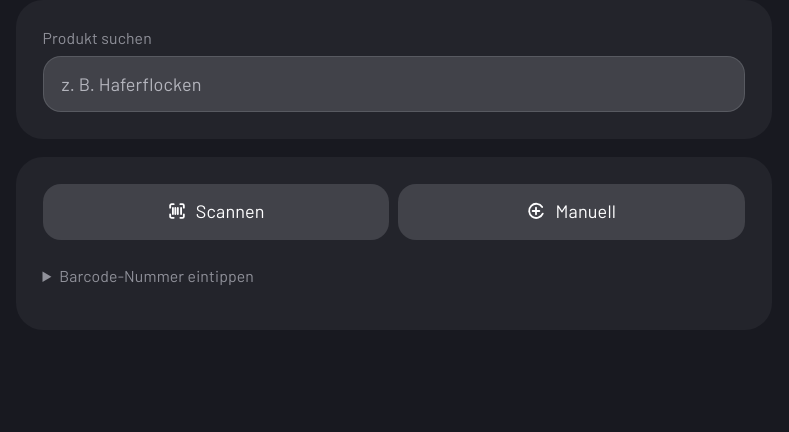
Test case: AddEntryFlow › previews the calories of the entered portion
The width and height of the screenshot is (789, 432).
Step 1. Click the button "Scannen" → click(216, 212), box [42,184,389,240]
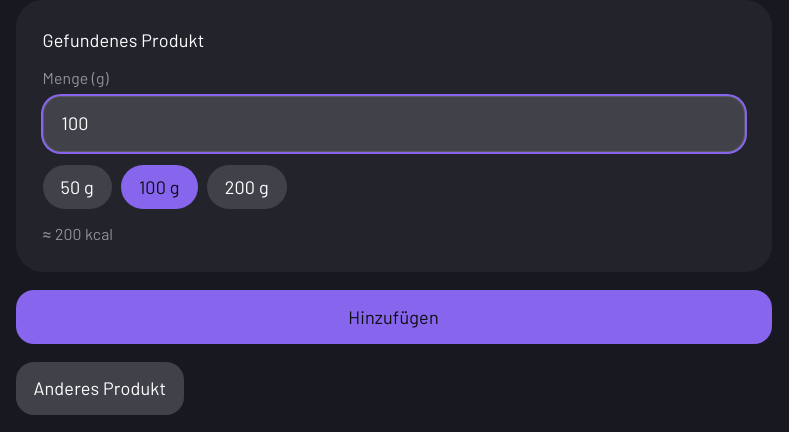
Expected: the text "Gefundenes Produkt" is shown, [42,29,204,51]
Expected: the text "≈ 200 kcal" is shown, [42,224,113,243]
Step 2. Replace the text in the field labelled "Menge (g)" with "250" → (394, 124), box [42,96,744,152]
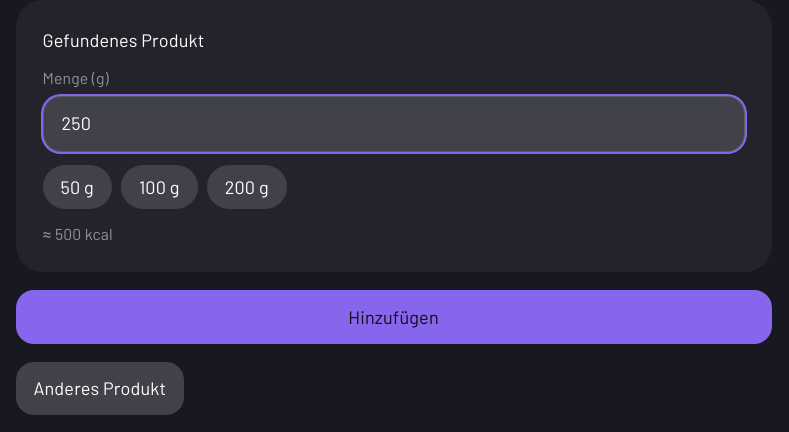
Expected: the text "≈ 500 kcal" is shown, [42,224,113,243]
Step 3. Clear the field labelled "Menge (g)" → (394, 124), box [42,96,744,152]
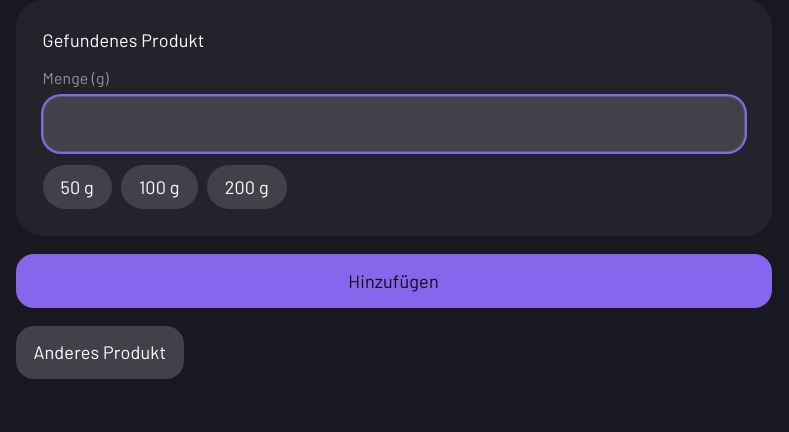
Expected: the text "≈" is gone
